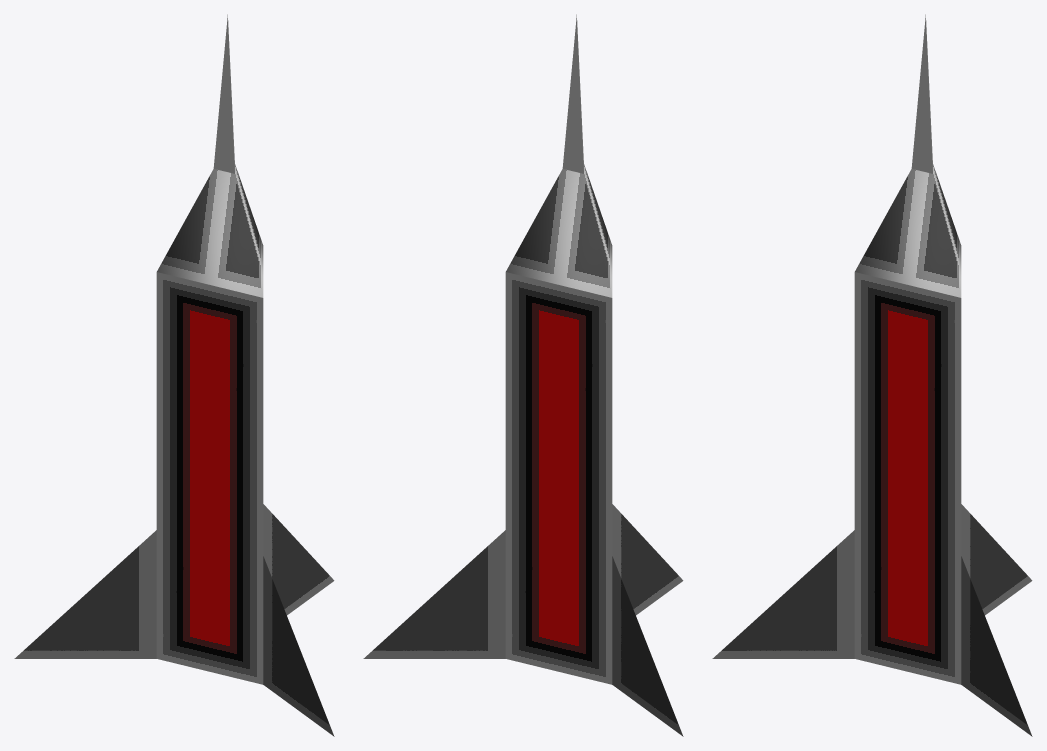
File: Missile.obj
3 views of the same model, side by side, from view 1: azimuth 30°, elevation 25°; view 2: azimuth 150°, elevation 25°; view 3: azimuth 270°, elevation 25° (orthographic).
Size of the model in its own units: 2.6 by 5 by 2.25.
Materials: 1 (1 with a texture image).
